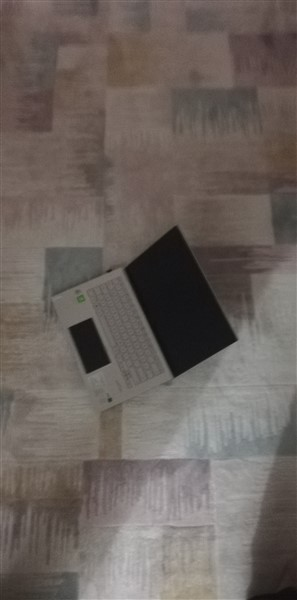laptop: (46, 222, 241, 419)
